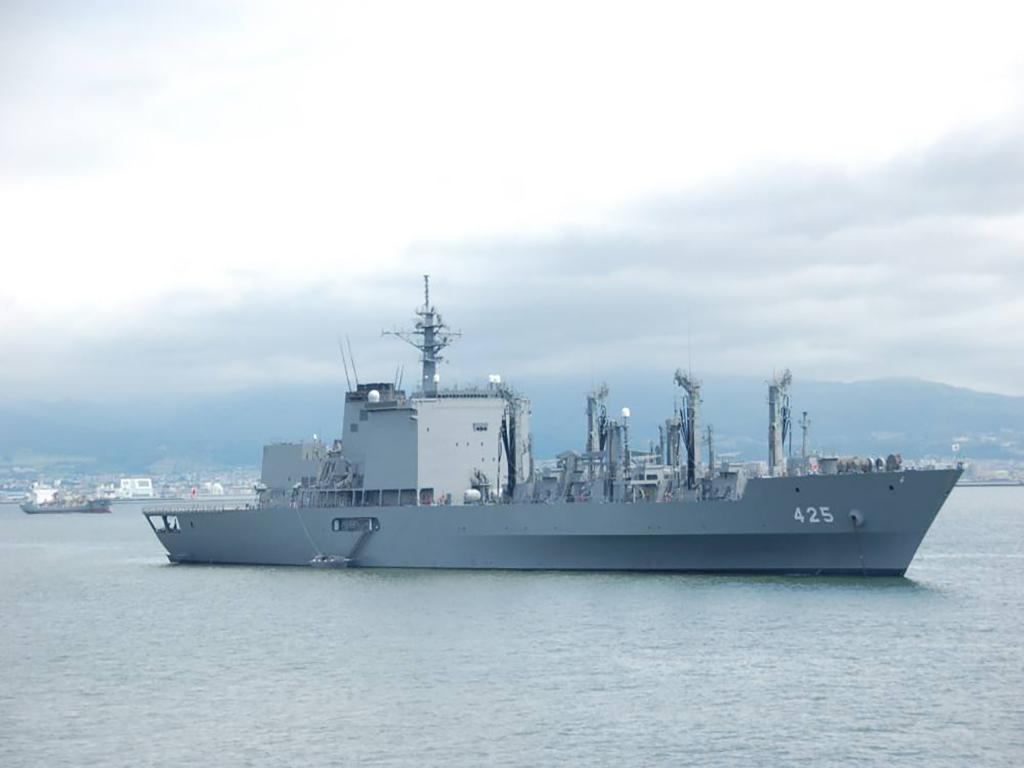Warship: (136, 278, 962, 580)
